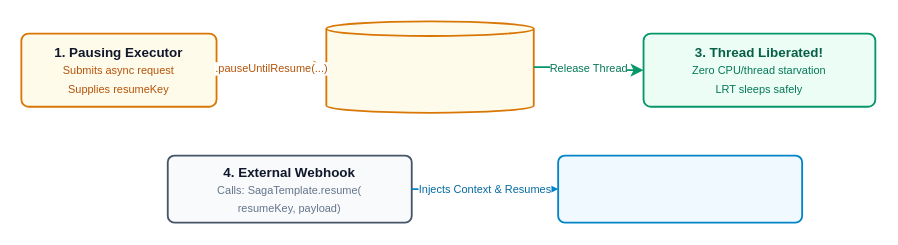
The diagram is 898 pixels wide and 245 high, and some of its shapes have lost their labels. The shapes that lost their labels are listed below. From the top down, each one's centre as x and y in pixels, then its label:
(x=429, y=66): 2. SEC Event Store Sets is_paused = 1 in DB Registers resumeKey
(x=680, y=188): 5. Resumed Executor Wakes up with ResumeContext Advances forward pipeline
